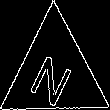N_NE: (28, 40, 81, 105)
